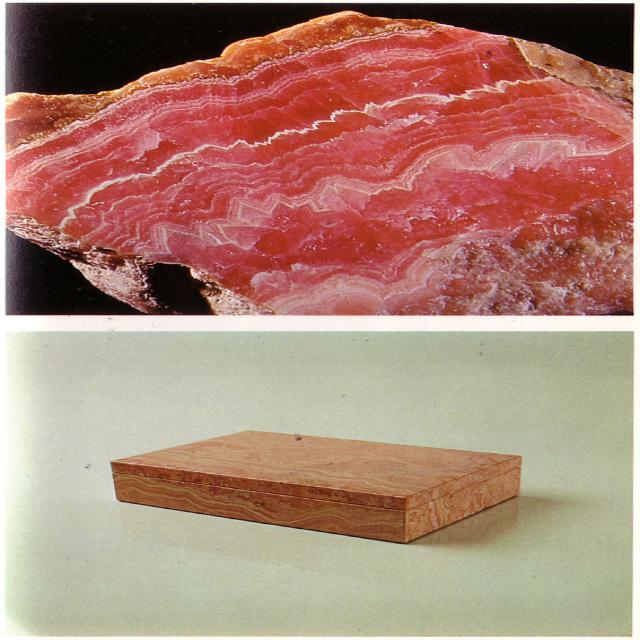Box: (110, 428, 523, 545)
